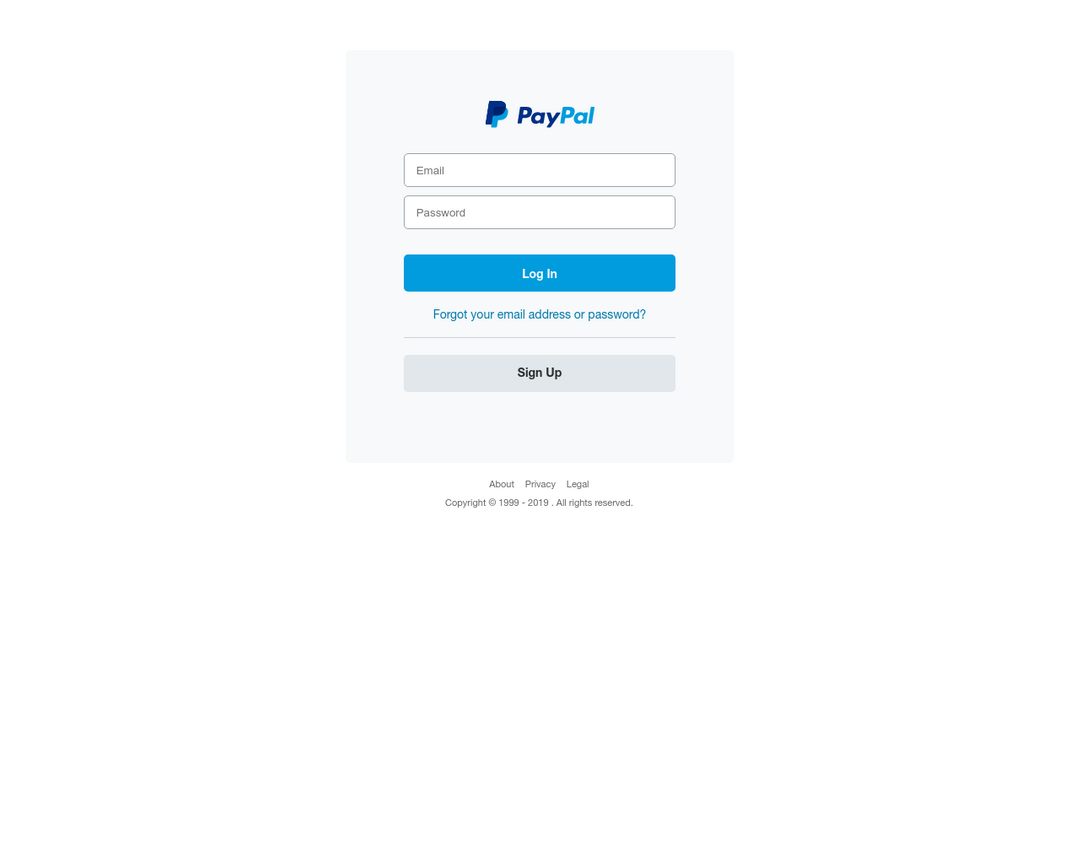Paypal: (478, 94, 598, 134)
